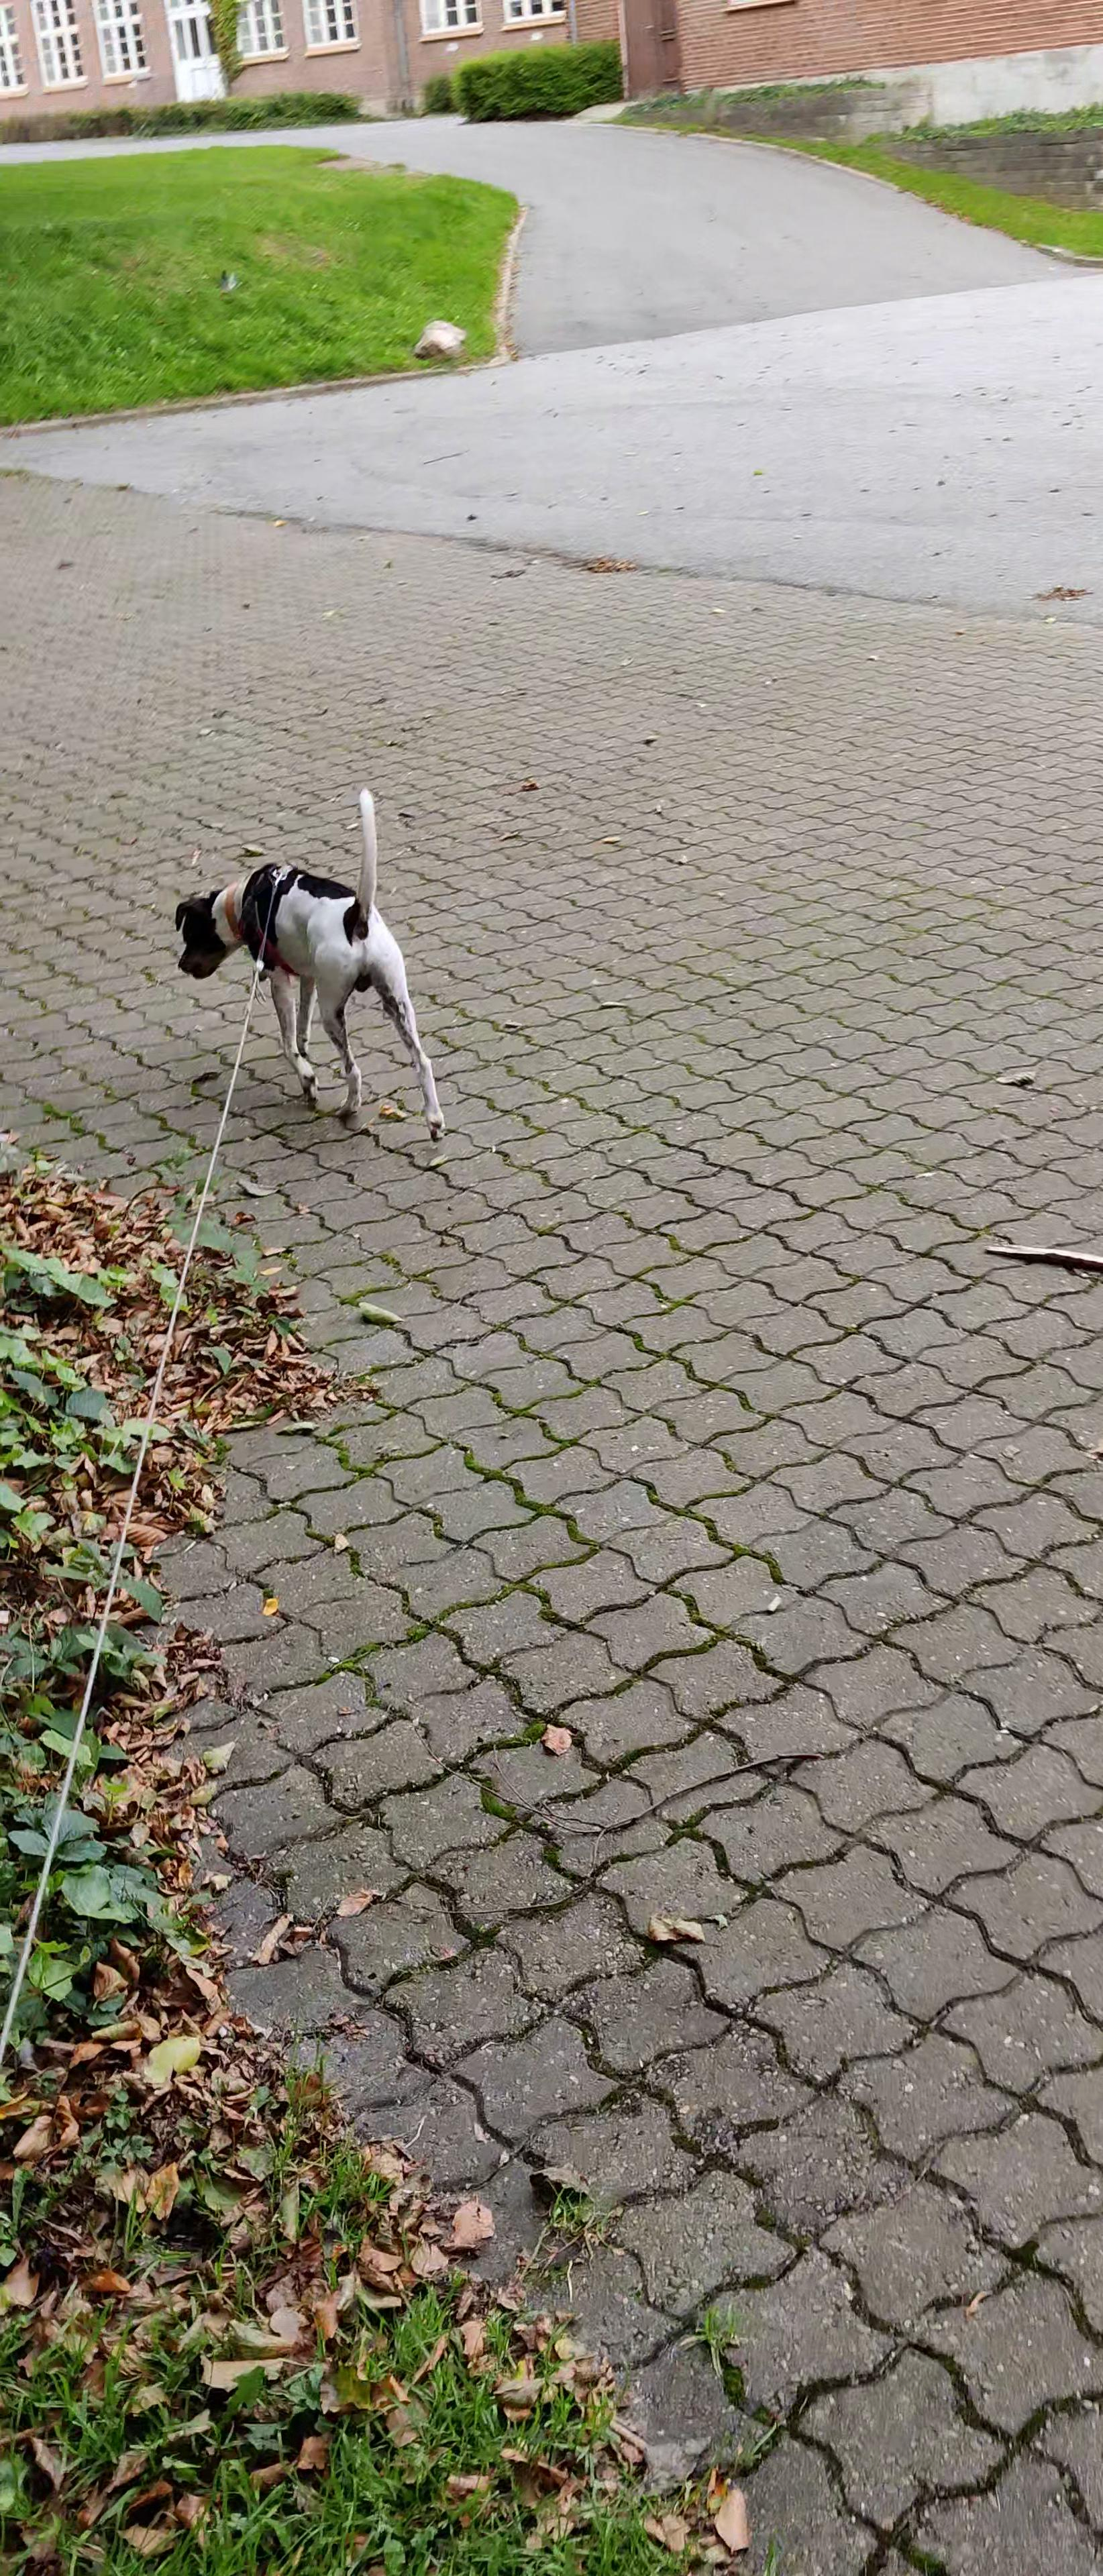Dog: (164, 779, 454, 1147)
